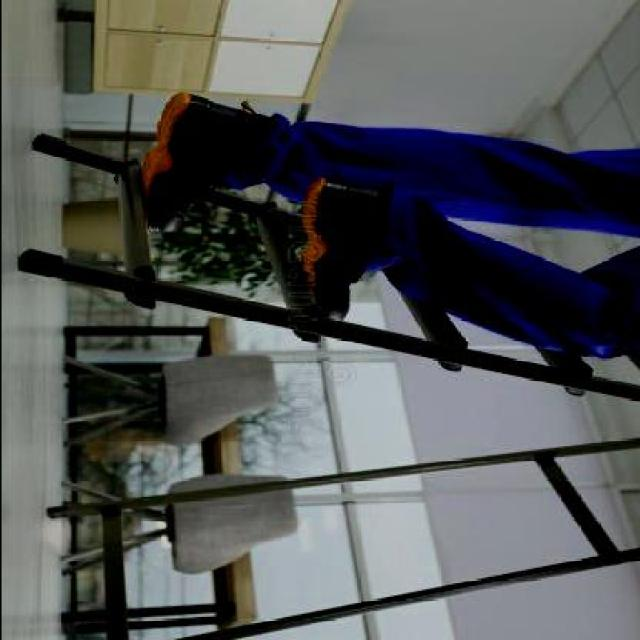shoes: (136, 97, 256, 228), (305, 176, 389, 324)
